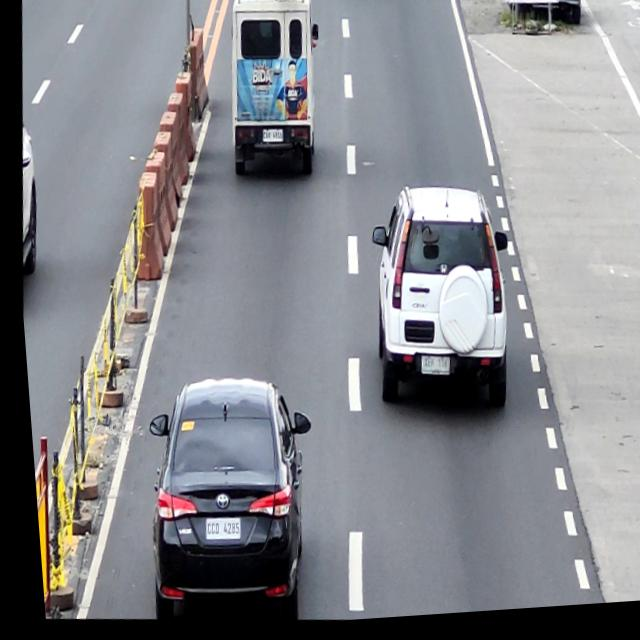Car: (128, 372, 317, 631), (353, 187, 517, 424), (218, 0, 328, 186)
License-Plate: (195, 518, 234, 543), (414, 359, 443, 380), (258, 131, 280, 146)
